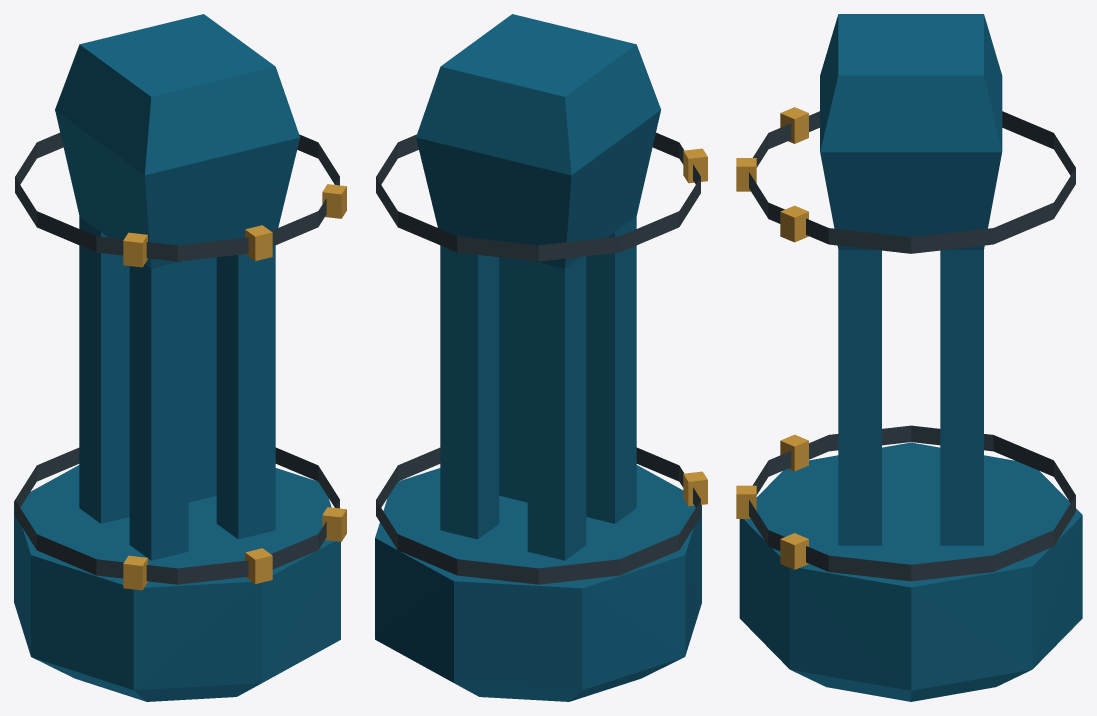
File: signal-buoy-sky.glb
The picture shows the model from 3 angles, left to right: view 1: azimuth 30°, elevation 25°; view 2: azimuth 150°, elevation 25°; view 3: azimuth 270°, elevation 25°; orthographic projection.
Parts seen in each view (by area): view 1: signal-buoy-sky; view 2: signal-buoy-sky; view 3: signal-buoy-sky.
Boxes of the visible parts, <box> form: signal-buoy-sky: <box>14,14,346,701</box>; signal-buoy-sky: <box>375,14,707,701</box>; signal-buoy-sky: <box>736,14,1082,701</box>.
Bounding box in the file's own units: 0.79 × 1.54 × 0.7977.
